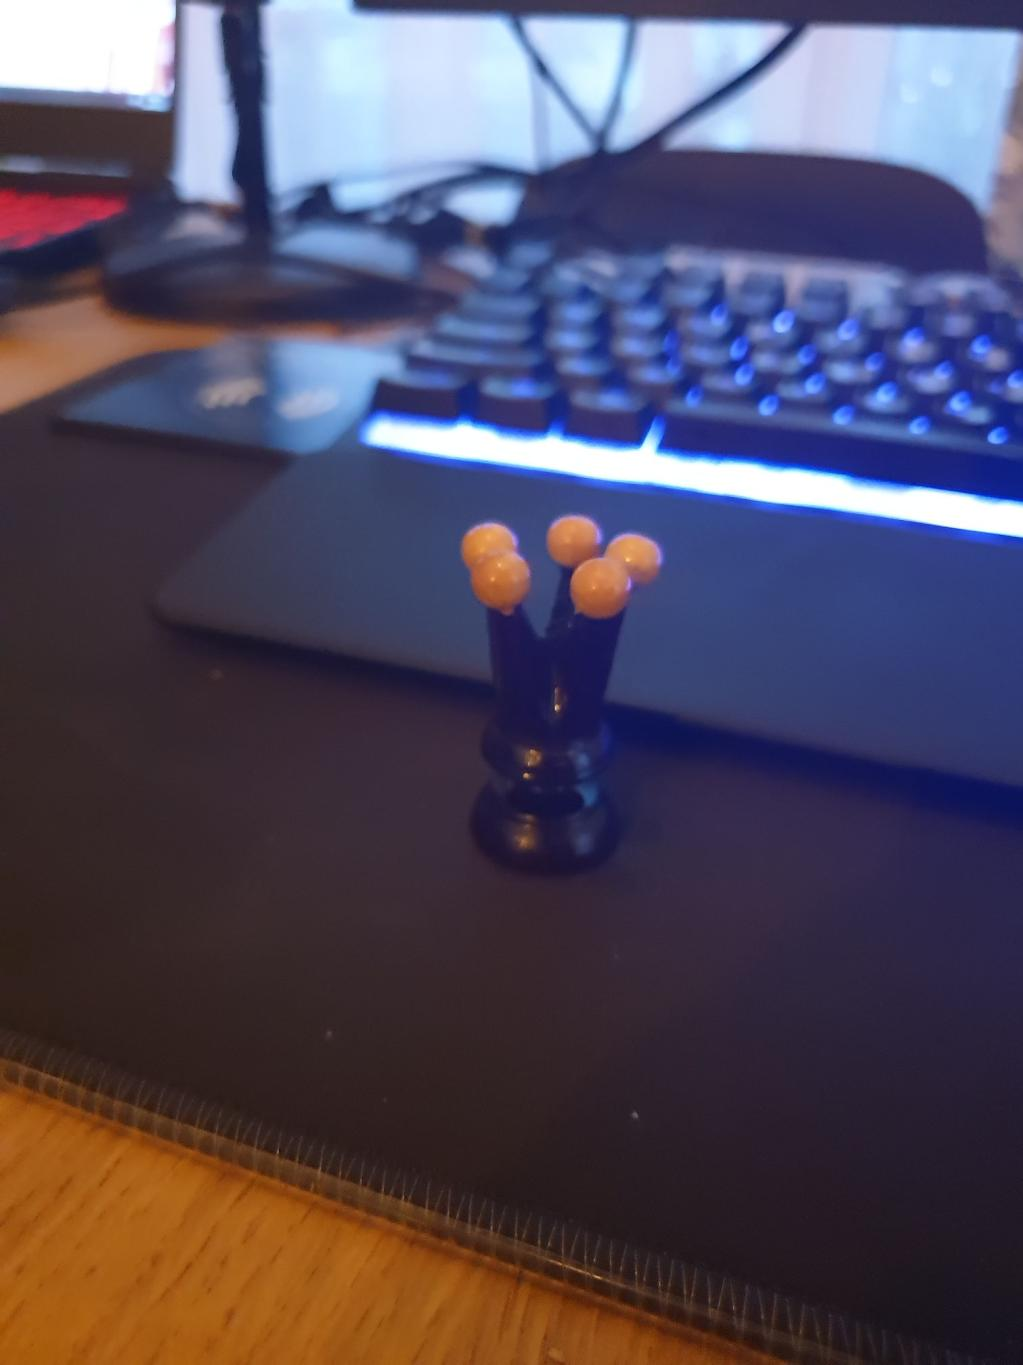bqueen: (457, 513, 661, 876)
